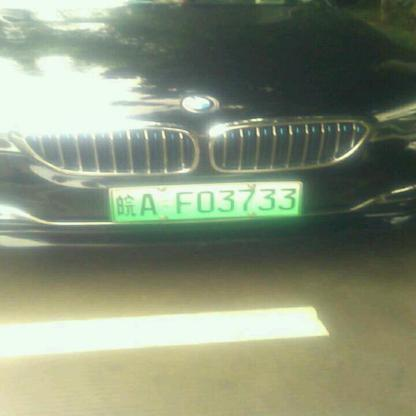lp: (112, 185, 300, 220)
